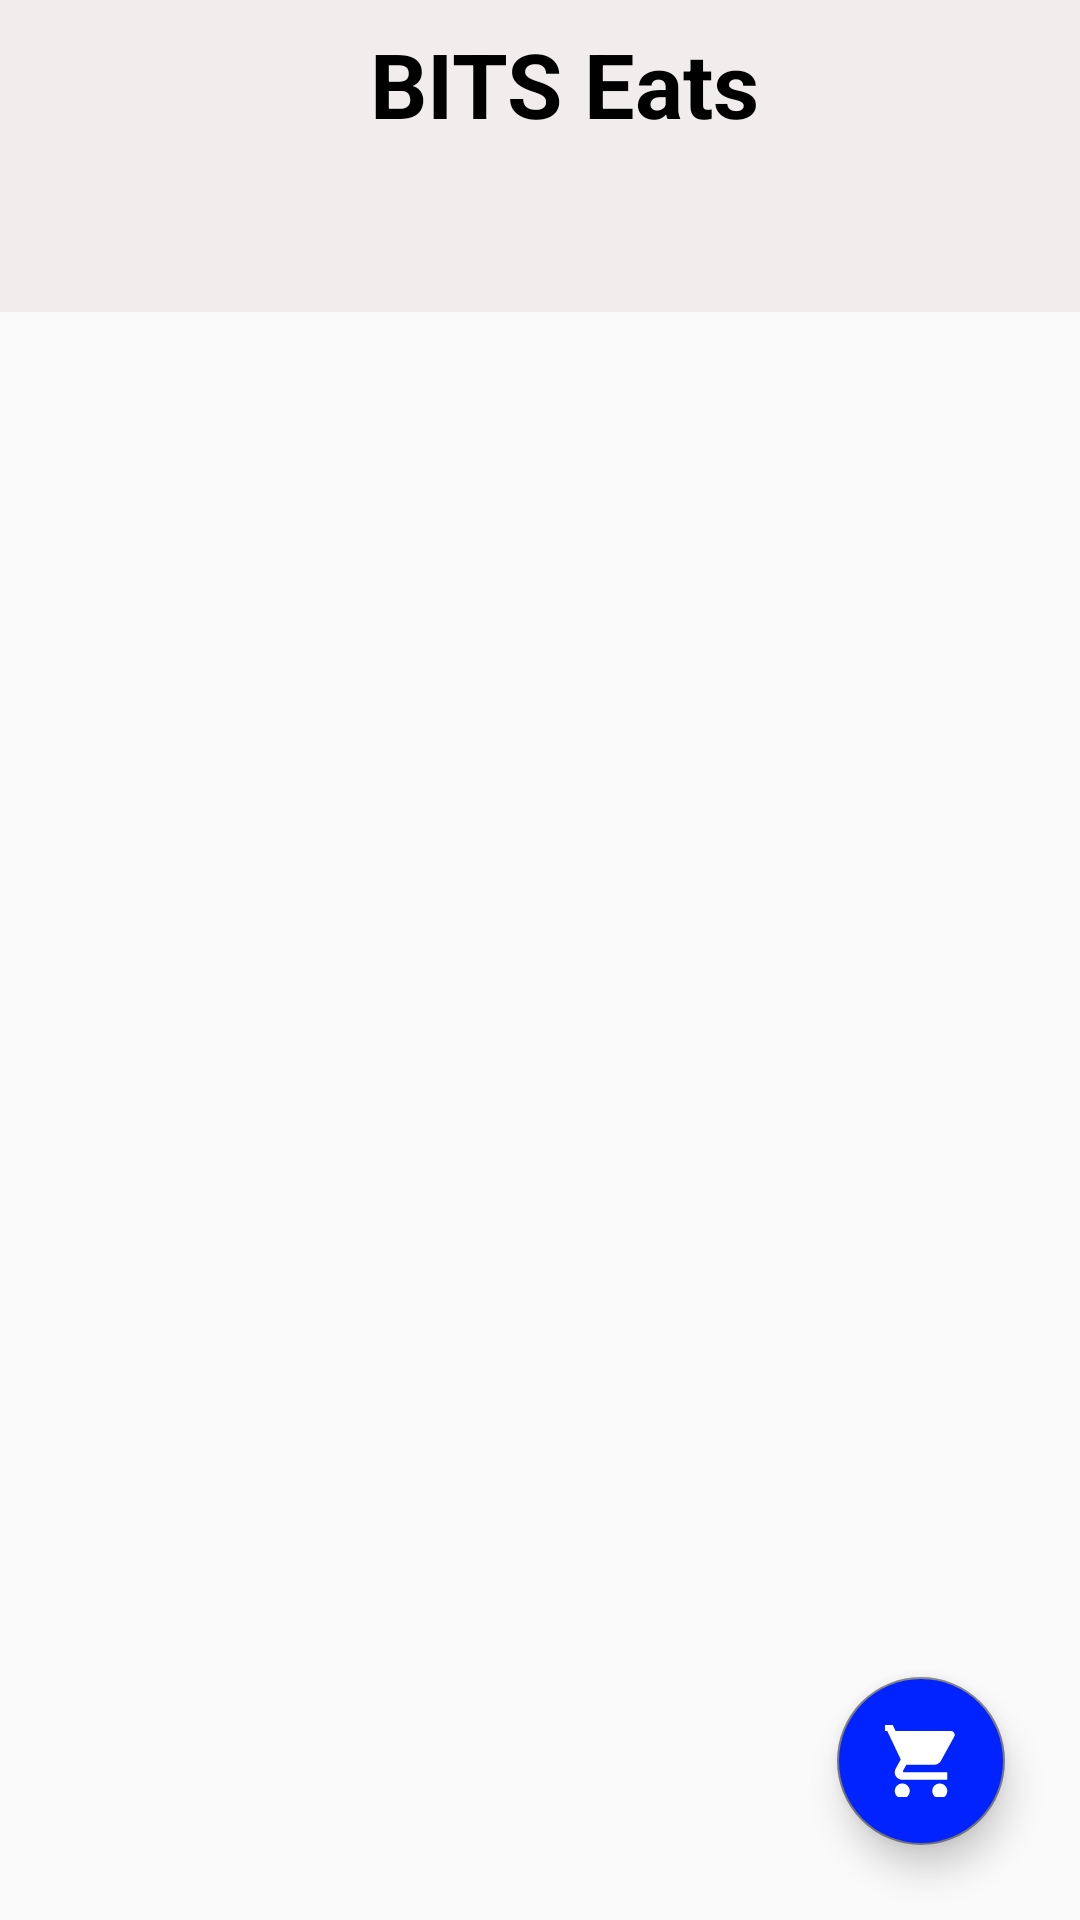

Named icons in this screenshot (1080*1920) and their bounding boxes, (x1, y1, x2, y2):
cart: (837, 1677, 1005, 1845)
